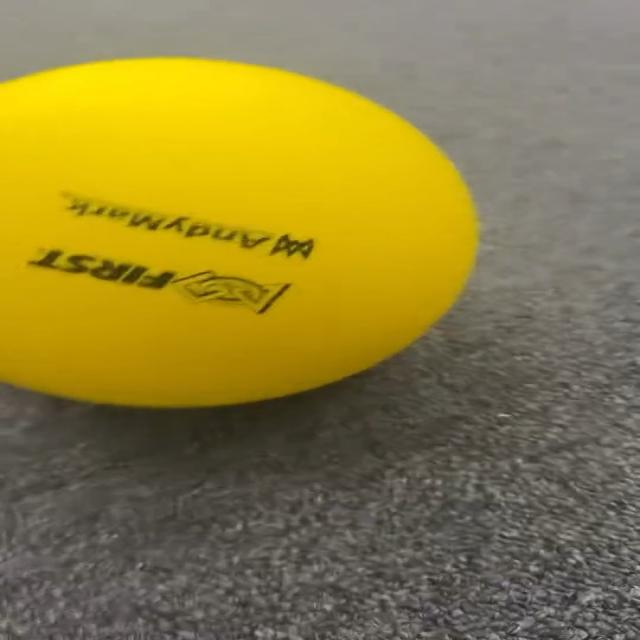Fuels: (2, 59, 476, 404)
